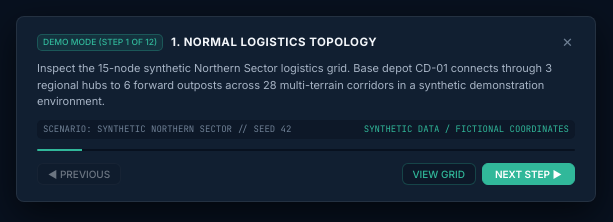
Scenario: PRAVAH Phase 4 Command Center UI Test Suite › renders DemoTour and advances through guided presentation steps
Expected: the text "DEMO MODE (STEP 1 OF 12)" is shown, top-left (37, 34), bottom-right (163, 51)
Expected: the text "1. NORMAL LOGISTICS TOPOLOGY" is shown, top-left (171, 34), bottom-right (377, 51)
Click the button "NEXT STEP ▶": click(528, 174) top-left (482, 163), bottom-right (575, 185)
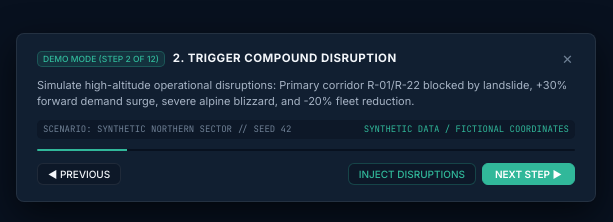
Now the text "DEMO MODE (STEP 2 OF 12)" is shown, box top-left (37, 51), bottom-right (165, 67)
